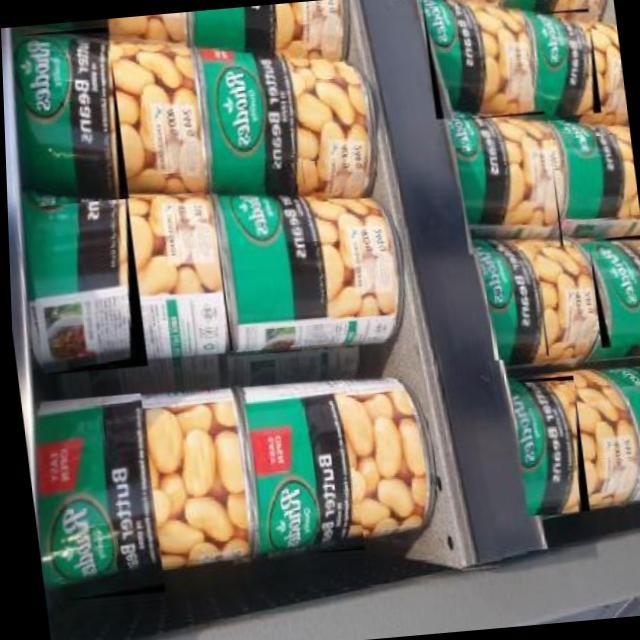Beans: (17, 391, 163, 602), (20, 177, 148, 376), (238, 384, 363, 558), (208, 182, 333, 350), (15, 26, 130, 208), (196, 47, 309, 211), (450, 110, 562, 254), (420, 0, 537, 119), (507, 374, 588, 517), (477, 236, 549, 361), (532, 7, 602, 118), (560, 124, 631, 222), (585, 236, 640, 348)
